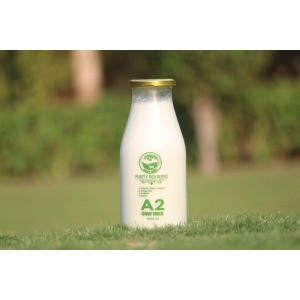milk_brain food: (115, 124, 189, 229)
